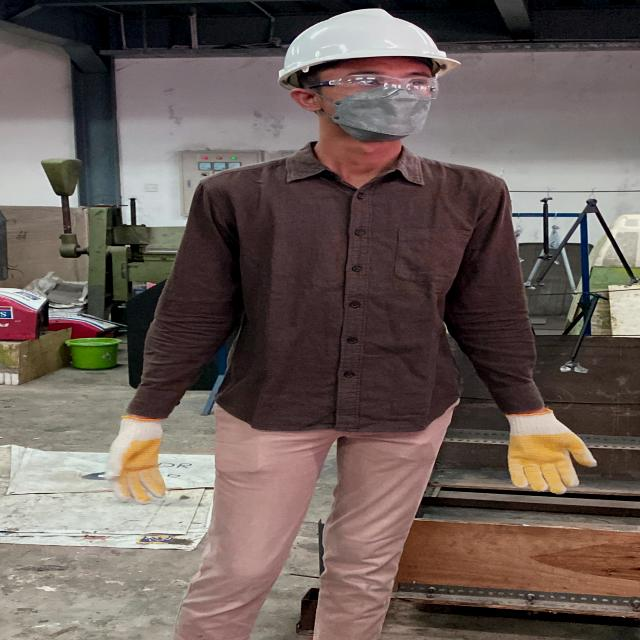face_mask: (318, 69, 438, 141)
glasses: (301, 72, 450, 101)
hand_glove: (486, 421, 604, 495), (95, 420, 181, 505)
head_helmet: (268, 6, 461, 78)
person: (105, 8, 585, 640)
